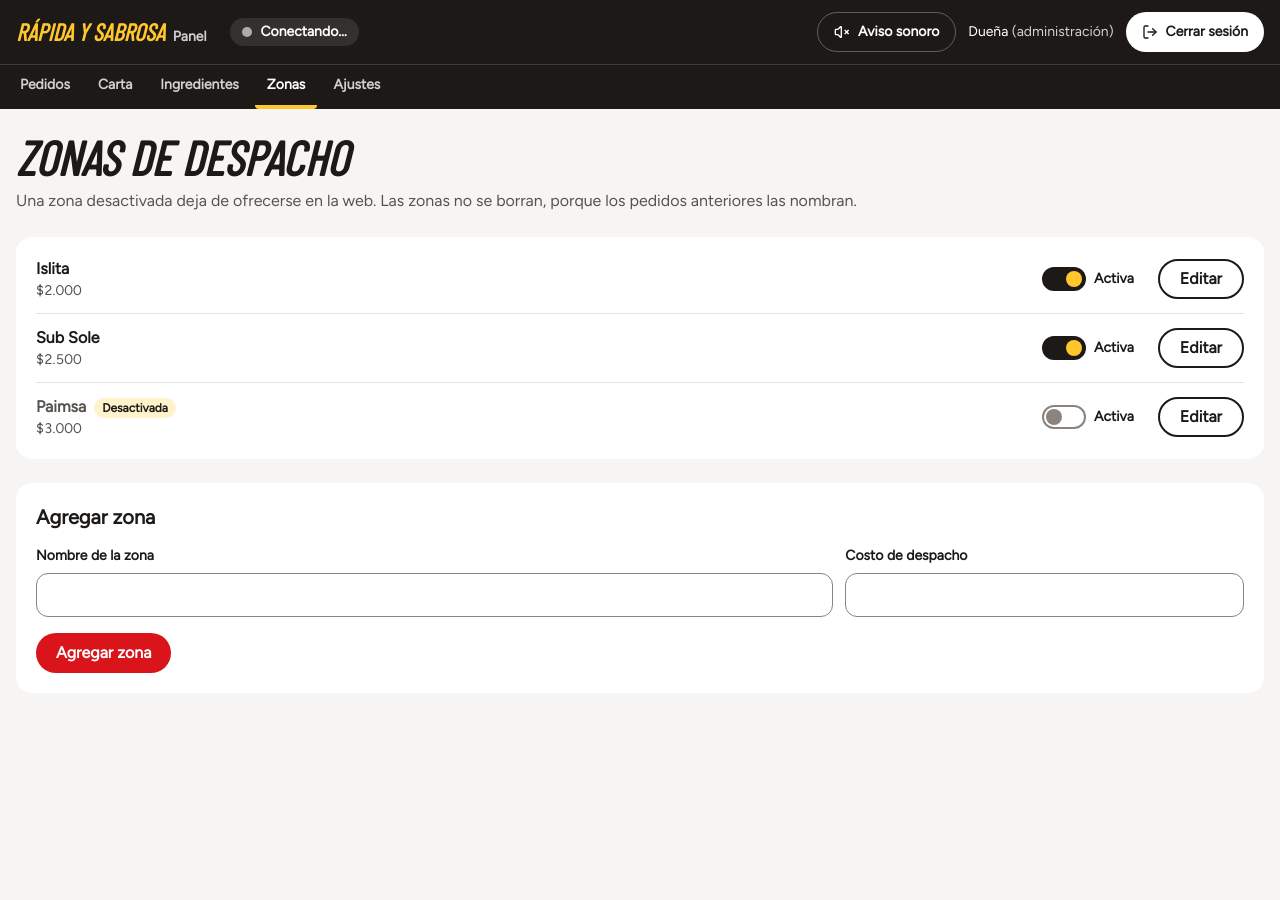
Test case: /zonas › edita el nombre y el costo de una zona
expect the heading "Zonas de despacho" is shown: met, box x1=16 y1=128 x2=348 y2=186
Click the button named "Editar Islita": {"x": 1201, "y": 279} x1=1158 y1=259 x2=1244 y2=299
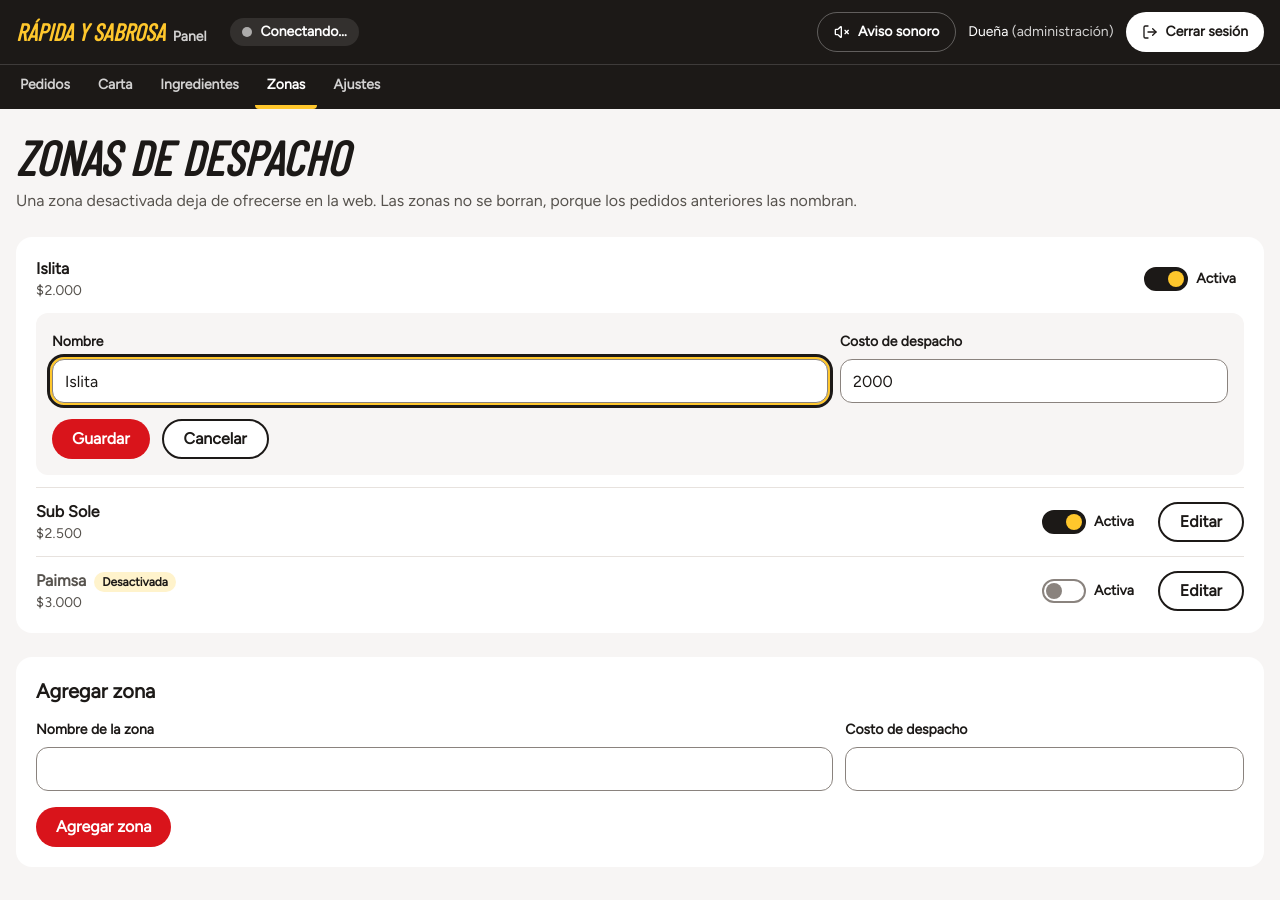
Replace the text in the 1st field labelled "Costo de despacho" with "2500": {"x": 1034, "y": 381} x1=840 y1=359 x2=1228 y2=403
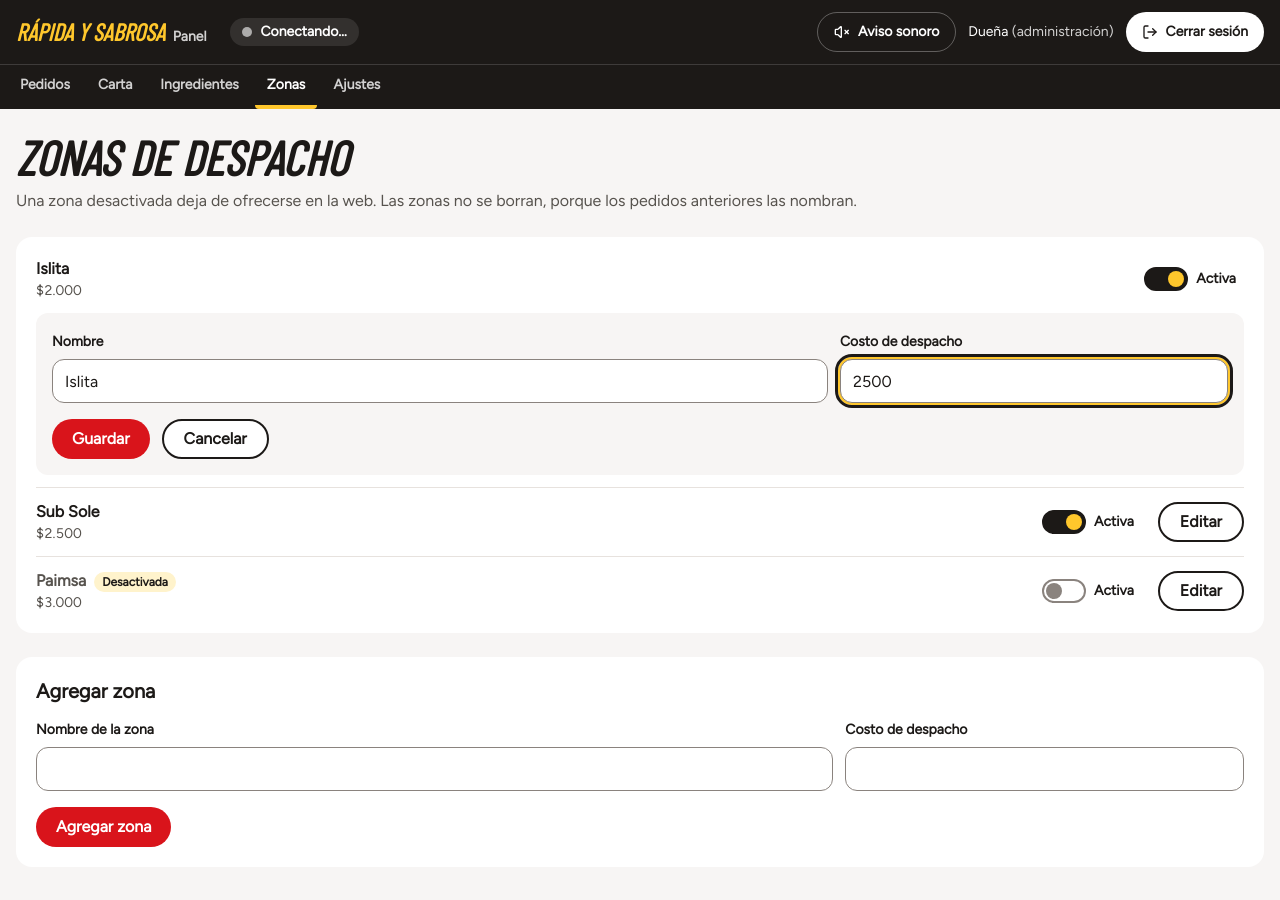
Click the button "Guardar": {"x": 101, "y": 439} x1=52 y1=419 x2=150 y2=459
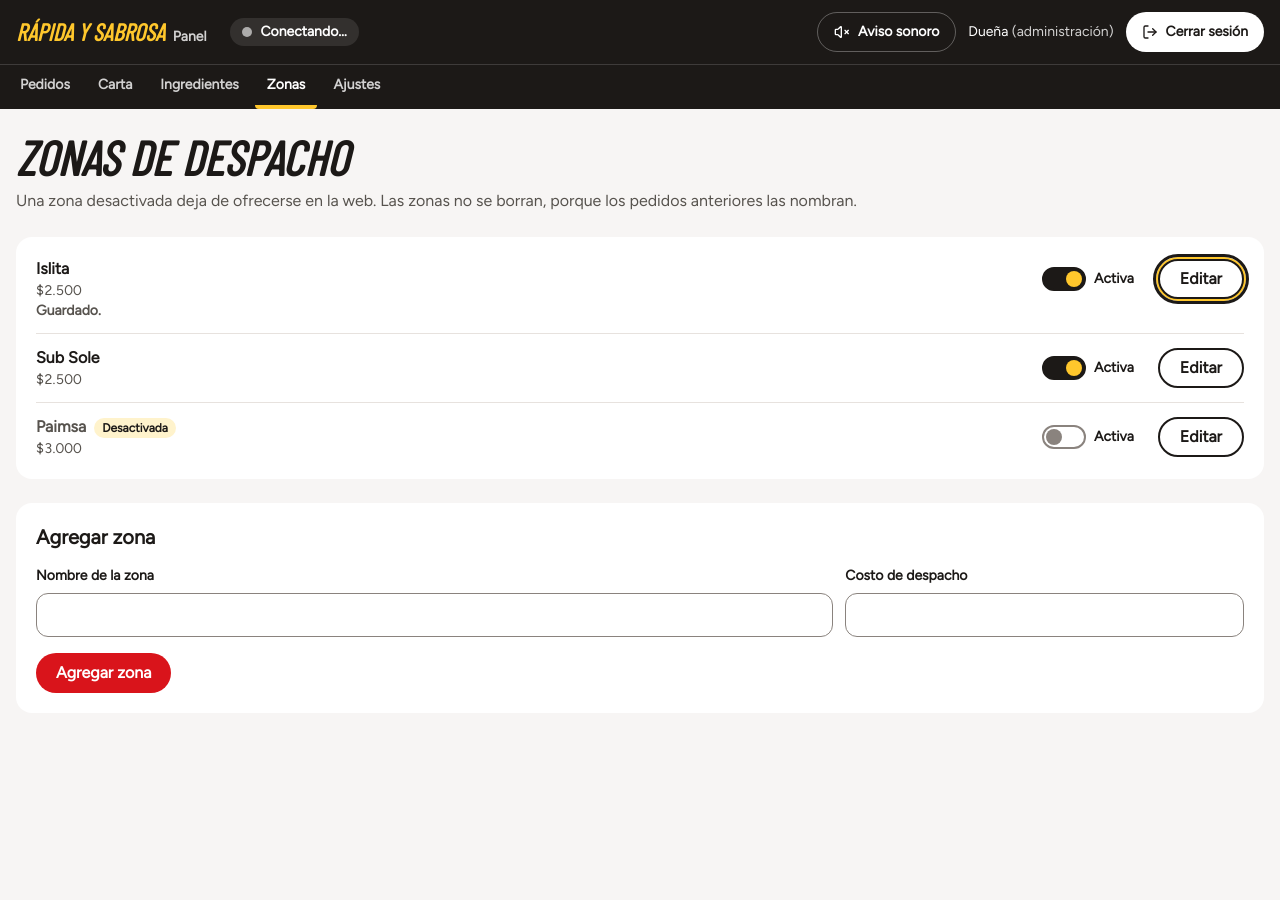
expect the text "$2.500" below "Islita" is shown: met, box x1=36 y1=282 x2=82 y2=299
